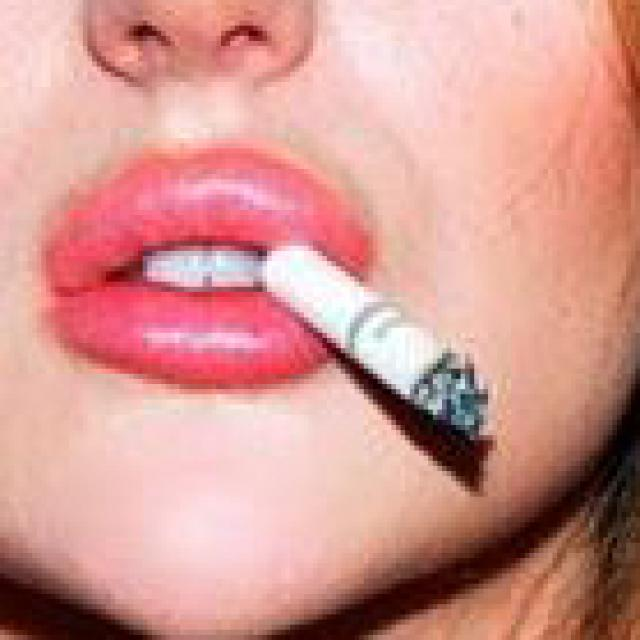smoking: (261, 242, 490, 440)
